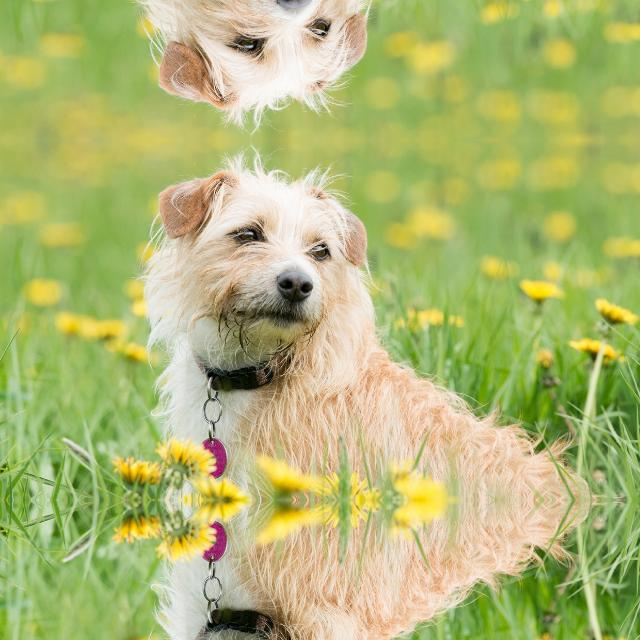dog: (140, 146, 374, 416), (140, 0, 373, 132), (140, 582, 373, 640)
